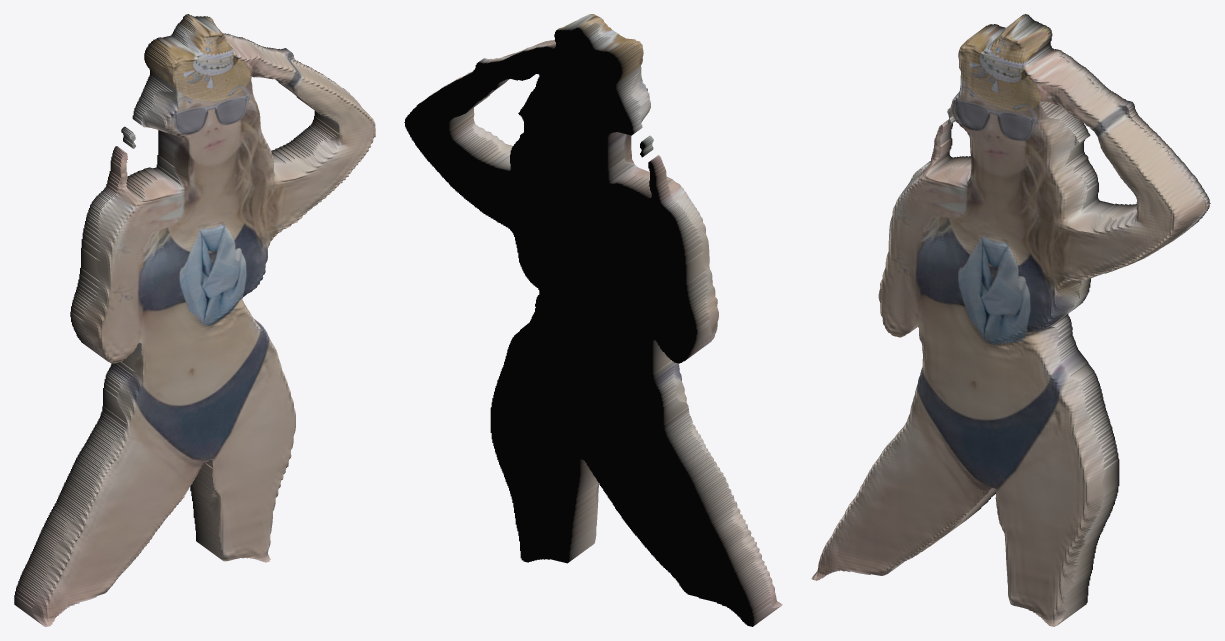
File: avatar_20260313_114551.glb
3 renders of one model, left to right at view 1: azimuth 30°, elevation 25°; view 2: azimuth 150°, elevation 25°; view 3: azimuth 330°, elevation 25°, orthographic. The views are drawn at different scales.
Visible parts, largest first — view 1: world; view 2: world; view 3: world.
Part boxes in pixels (x1,y1,x2,y2): world: (14,14,375,626); world: (404,14,782,626); world: (811,14,1210,626).
Size of the model in its own units: 1.07 by 1.63 by 0.1635.
